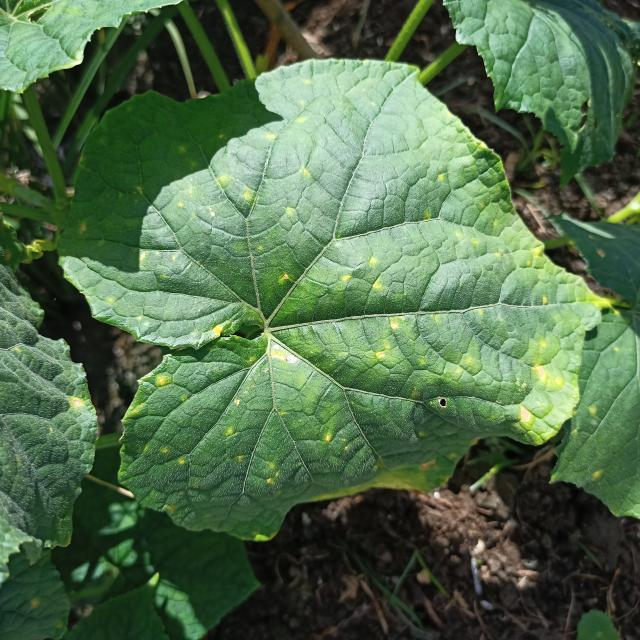disease_cucumber: (356, 211, 579, 454), (160, 104, 326, 244), (142, 368, 240, 478)
